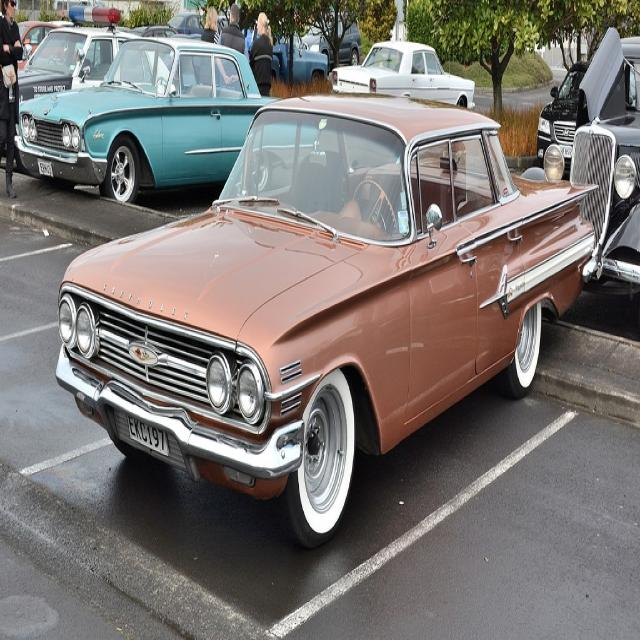car: (58, 87, 588, 542)
